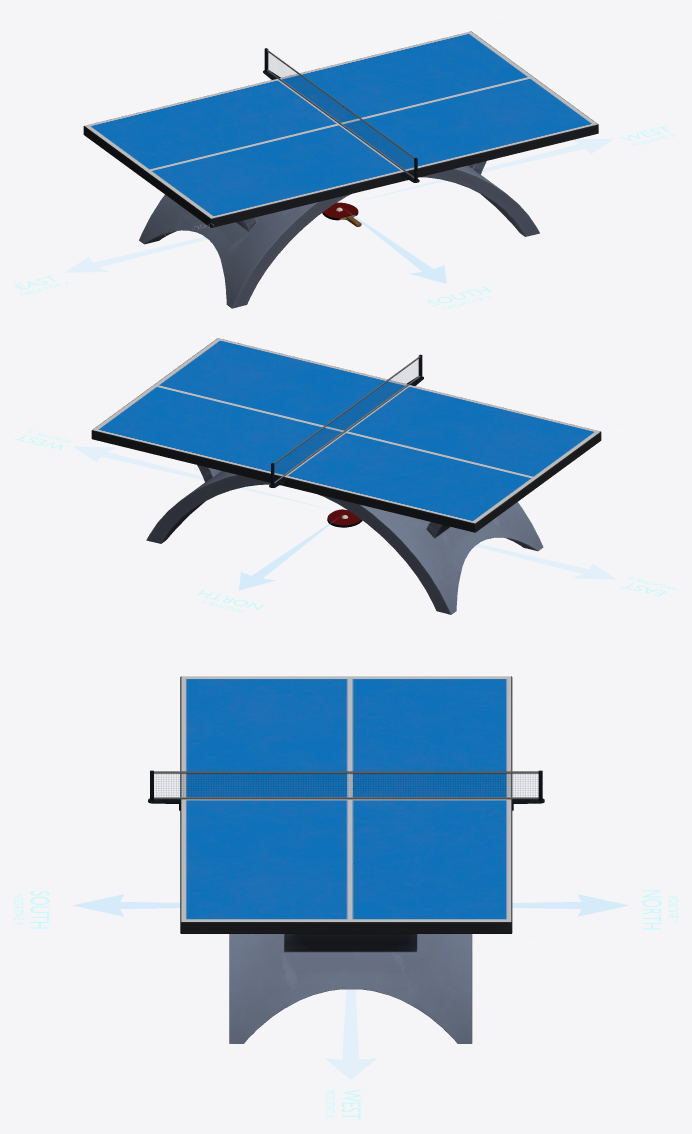
The model's file is table-tennis.glb.
3 renders of one model, top to bottom at view 1: azimuth 30°, elevation 25°; view 2: azimuth 150°, elevation 25°; view 3: azimuth 270°, elevation 25°, orthographic. The views are drawn at different scales.
Visible parts, largest first — view 1: Table, Arrows, Paddle1; view 2: Table, Arrows, Paddle1; view 3: Table, Net, Arrows.
Boxes of the visible parts, left/top/right/bottom form: Table: left=83, top=31, right=598, bottom=308; Arrows: left=350, top=213, right=445, bottom=282; Paddle1: left=322, top=202, right=361, bottom=226; Table: left=91, top=338, right=601, bottom=614; Arrows: left=239, top=520, right=334, bottom=589; Paddle1: left=327, top=509, right=362, bottom=527; Table: left=148, top=676, right=544, bottom=1043; Net: left=154, top=774, right=537, bottom=796; Arrows: left=74, top=895, right=627, bottom=915.
Size of the model in its own units: 36.86 by 7.21 by 24.79.
Materials: 6 (3 with a texture image).
